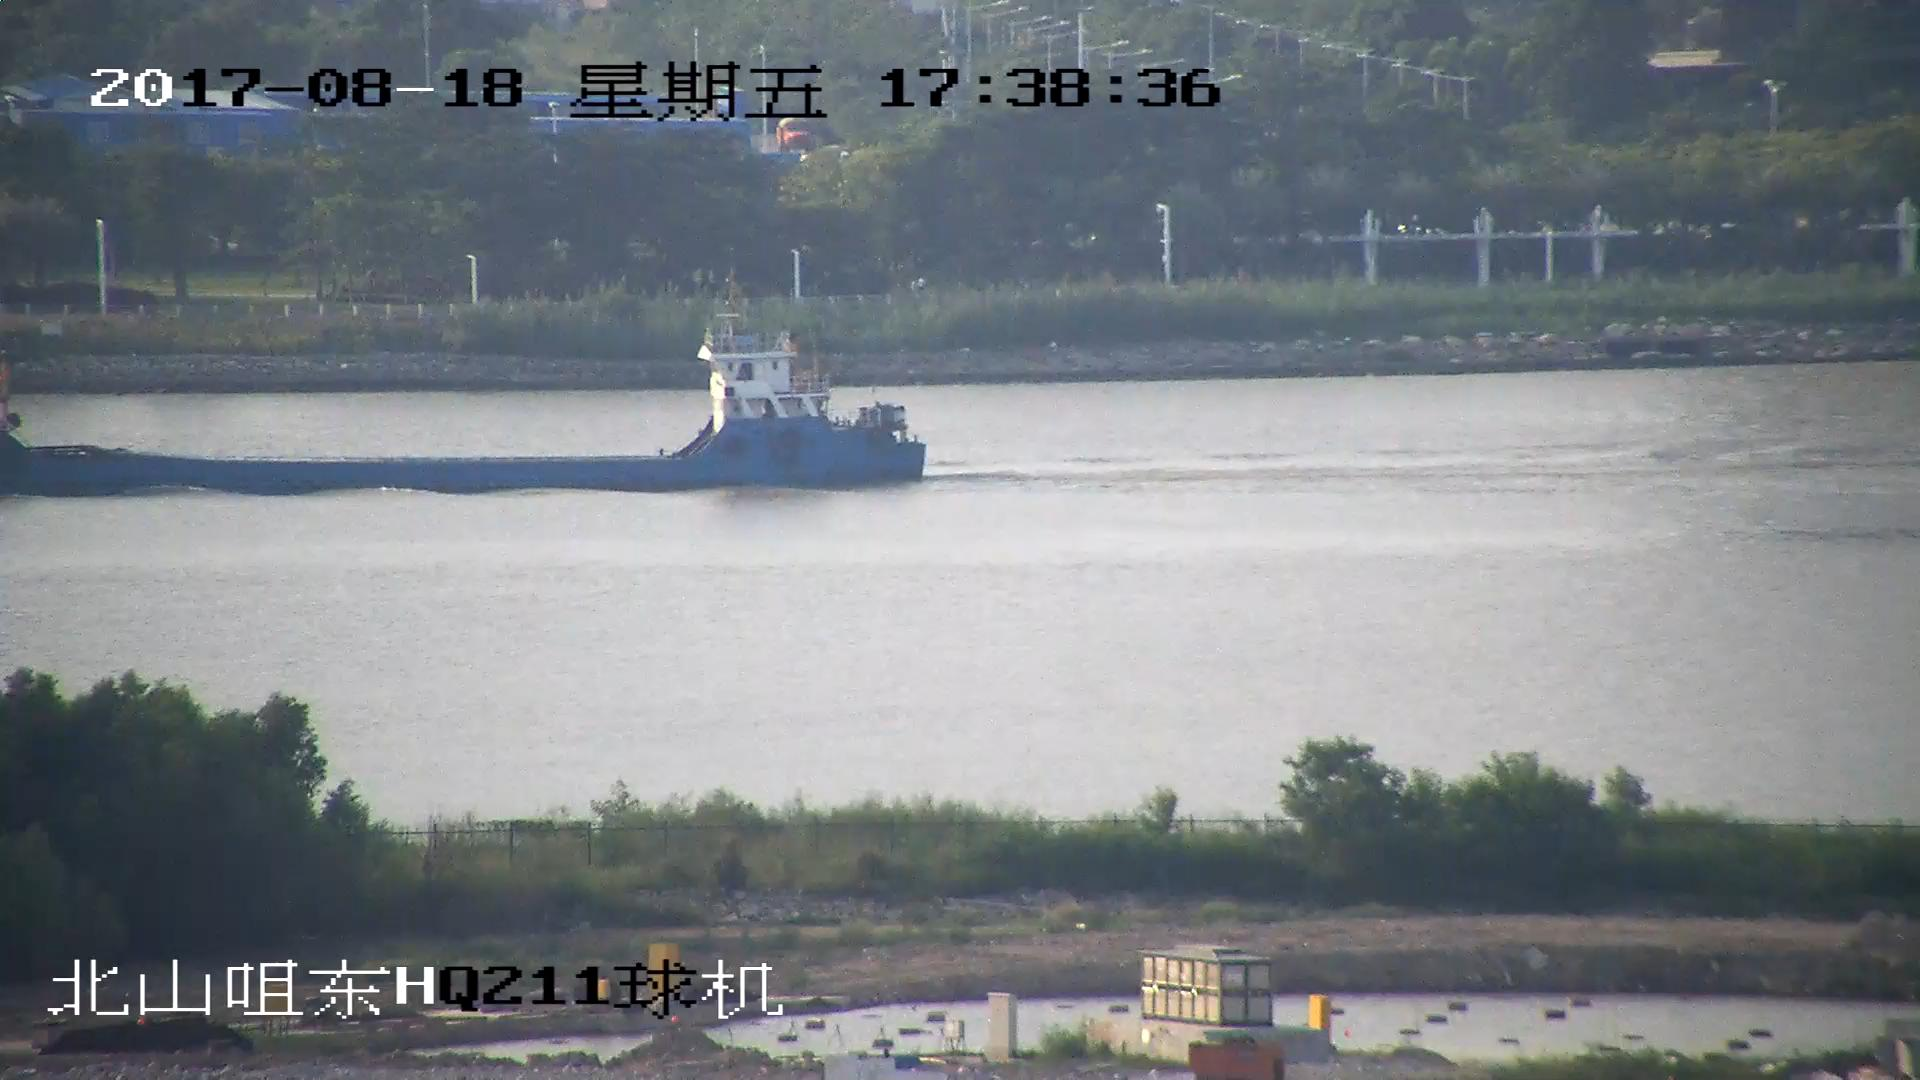general cargo ship: (1, 302, 929, 496)
